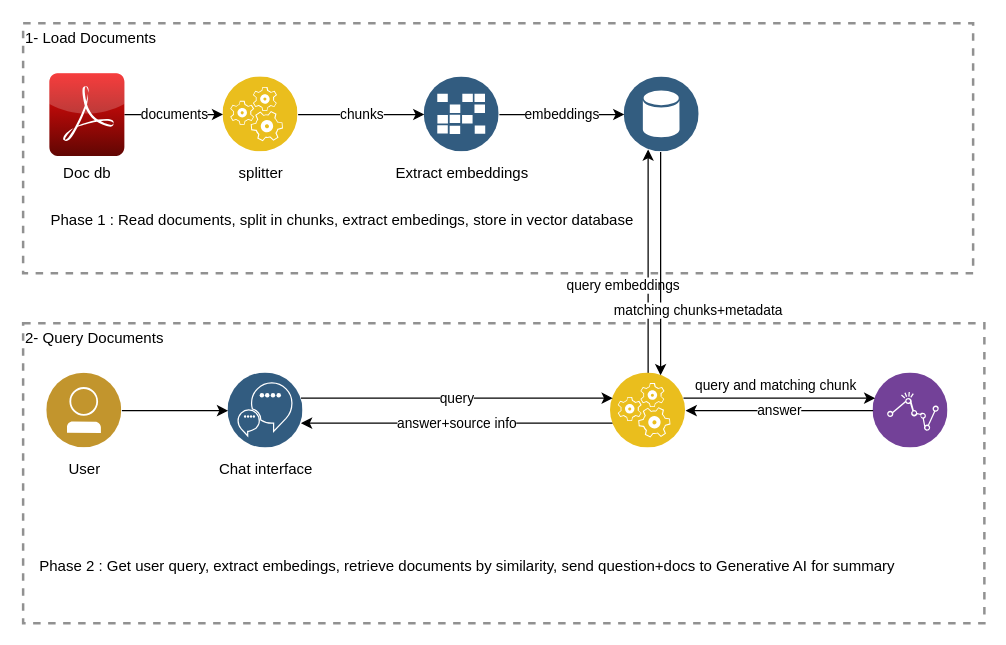
Some shapes in this 1006 by 645 pixel diagram are drawn without their labels. Each missing label, with the centre of its shape:
Retrieve documents by similarity and build answer using langchain RetrievalQA: the point at 647,410
Vector DataBase: the point at 661,113
watsonx.ai LLM: the point at 910,410
